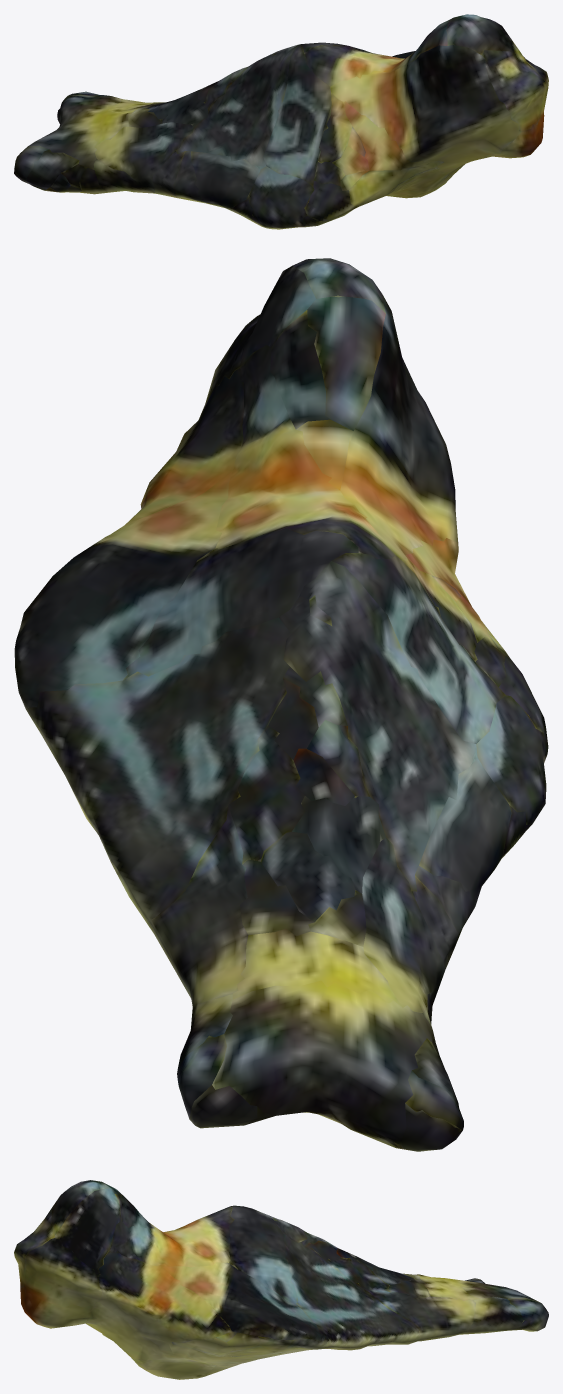
File: hall.glb
3 renders of one model, top to bottom at view 1: azimuth 30°, elevation 25°; view 2: azimuth 150°, elevation 25°; view 3: azimuth 270°, elevation 25°, orthographic. The views are drawn at different scales.
Size of the model in its own units: 0.5235 by 0.3824 by 0.7554.
Materials: 1 (1 with a texture image).
